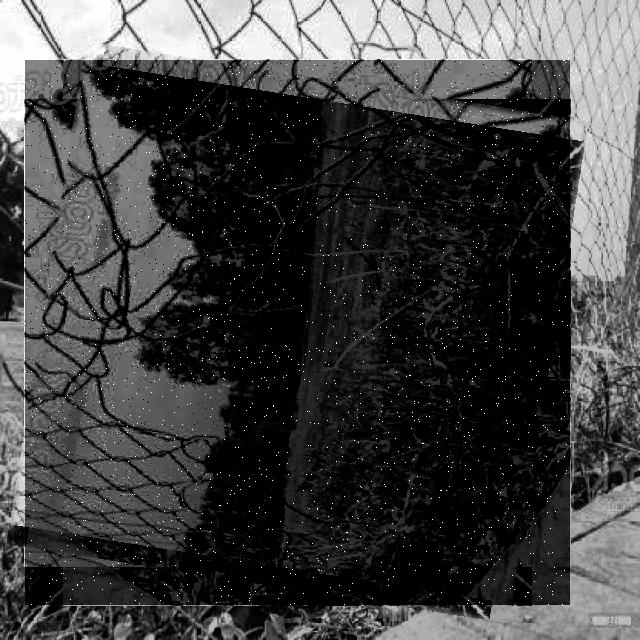anomaly-fence: (25, 60, 570, 605)
